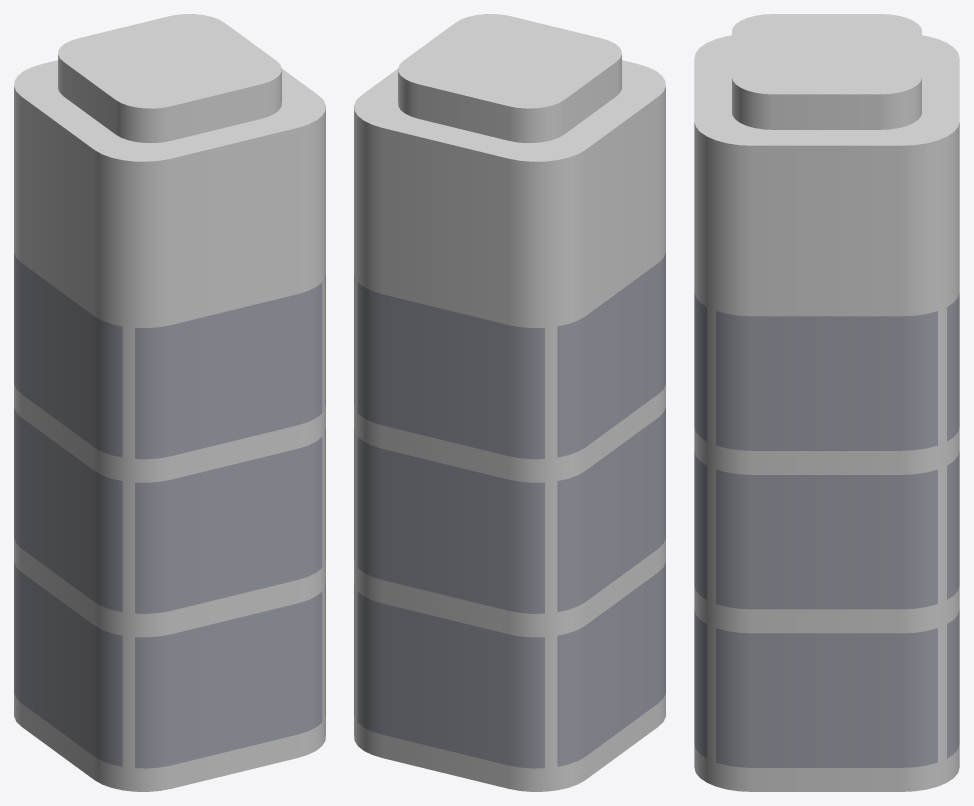
File: Building A.fbx
3 renders of one model, left to right at view 1: azimuth 30°, elevation 25°; view 2: azimuth 150°, elevation 25°; view 3: azimuth 270°, elevation 25°, orthographic. The views are drawn at different scales.
Visible parts, largest first — view 1: Background Buildings Part A, Background Buildings Cap A; view 2: Background Buildings Part A, Background Buildings Cap A; view 3: Background Buildings Part A, Background Buildings Cap A.
Boxes of the visible parts, bbox=[...] form: Background Buildings Part A: bbox=[14, 253, 325, 791]; Background Buildings Cap A: bbox=[14, 14, 325, 327]; Background Buildings Part A: bbox=[354, 253, 665, 791]; Background Buildings Cap A: bbox=[354, 14, 665, 327]; Background Buildings Part A: bbox=[694, 292, 959, 791]; Background Buildings Cap A: bbox=[694, 14, 959, 316].
Bounding box in the file's own units: 8.51 × 24.13 × 8.51.
